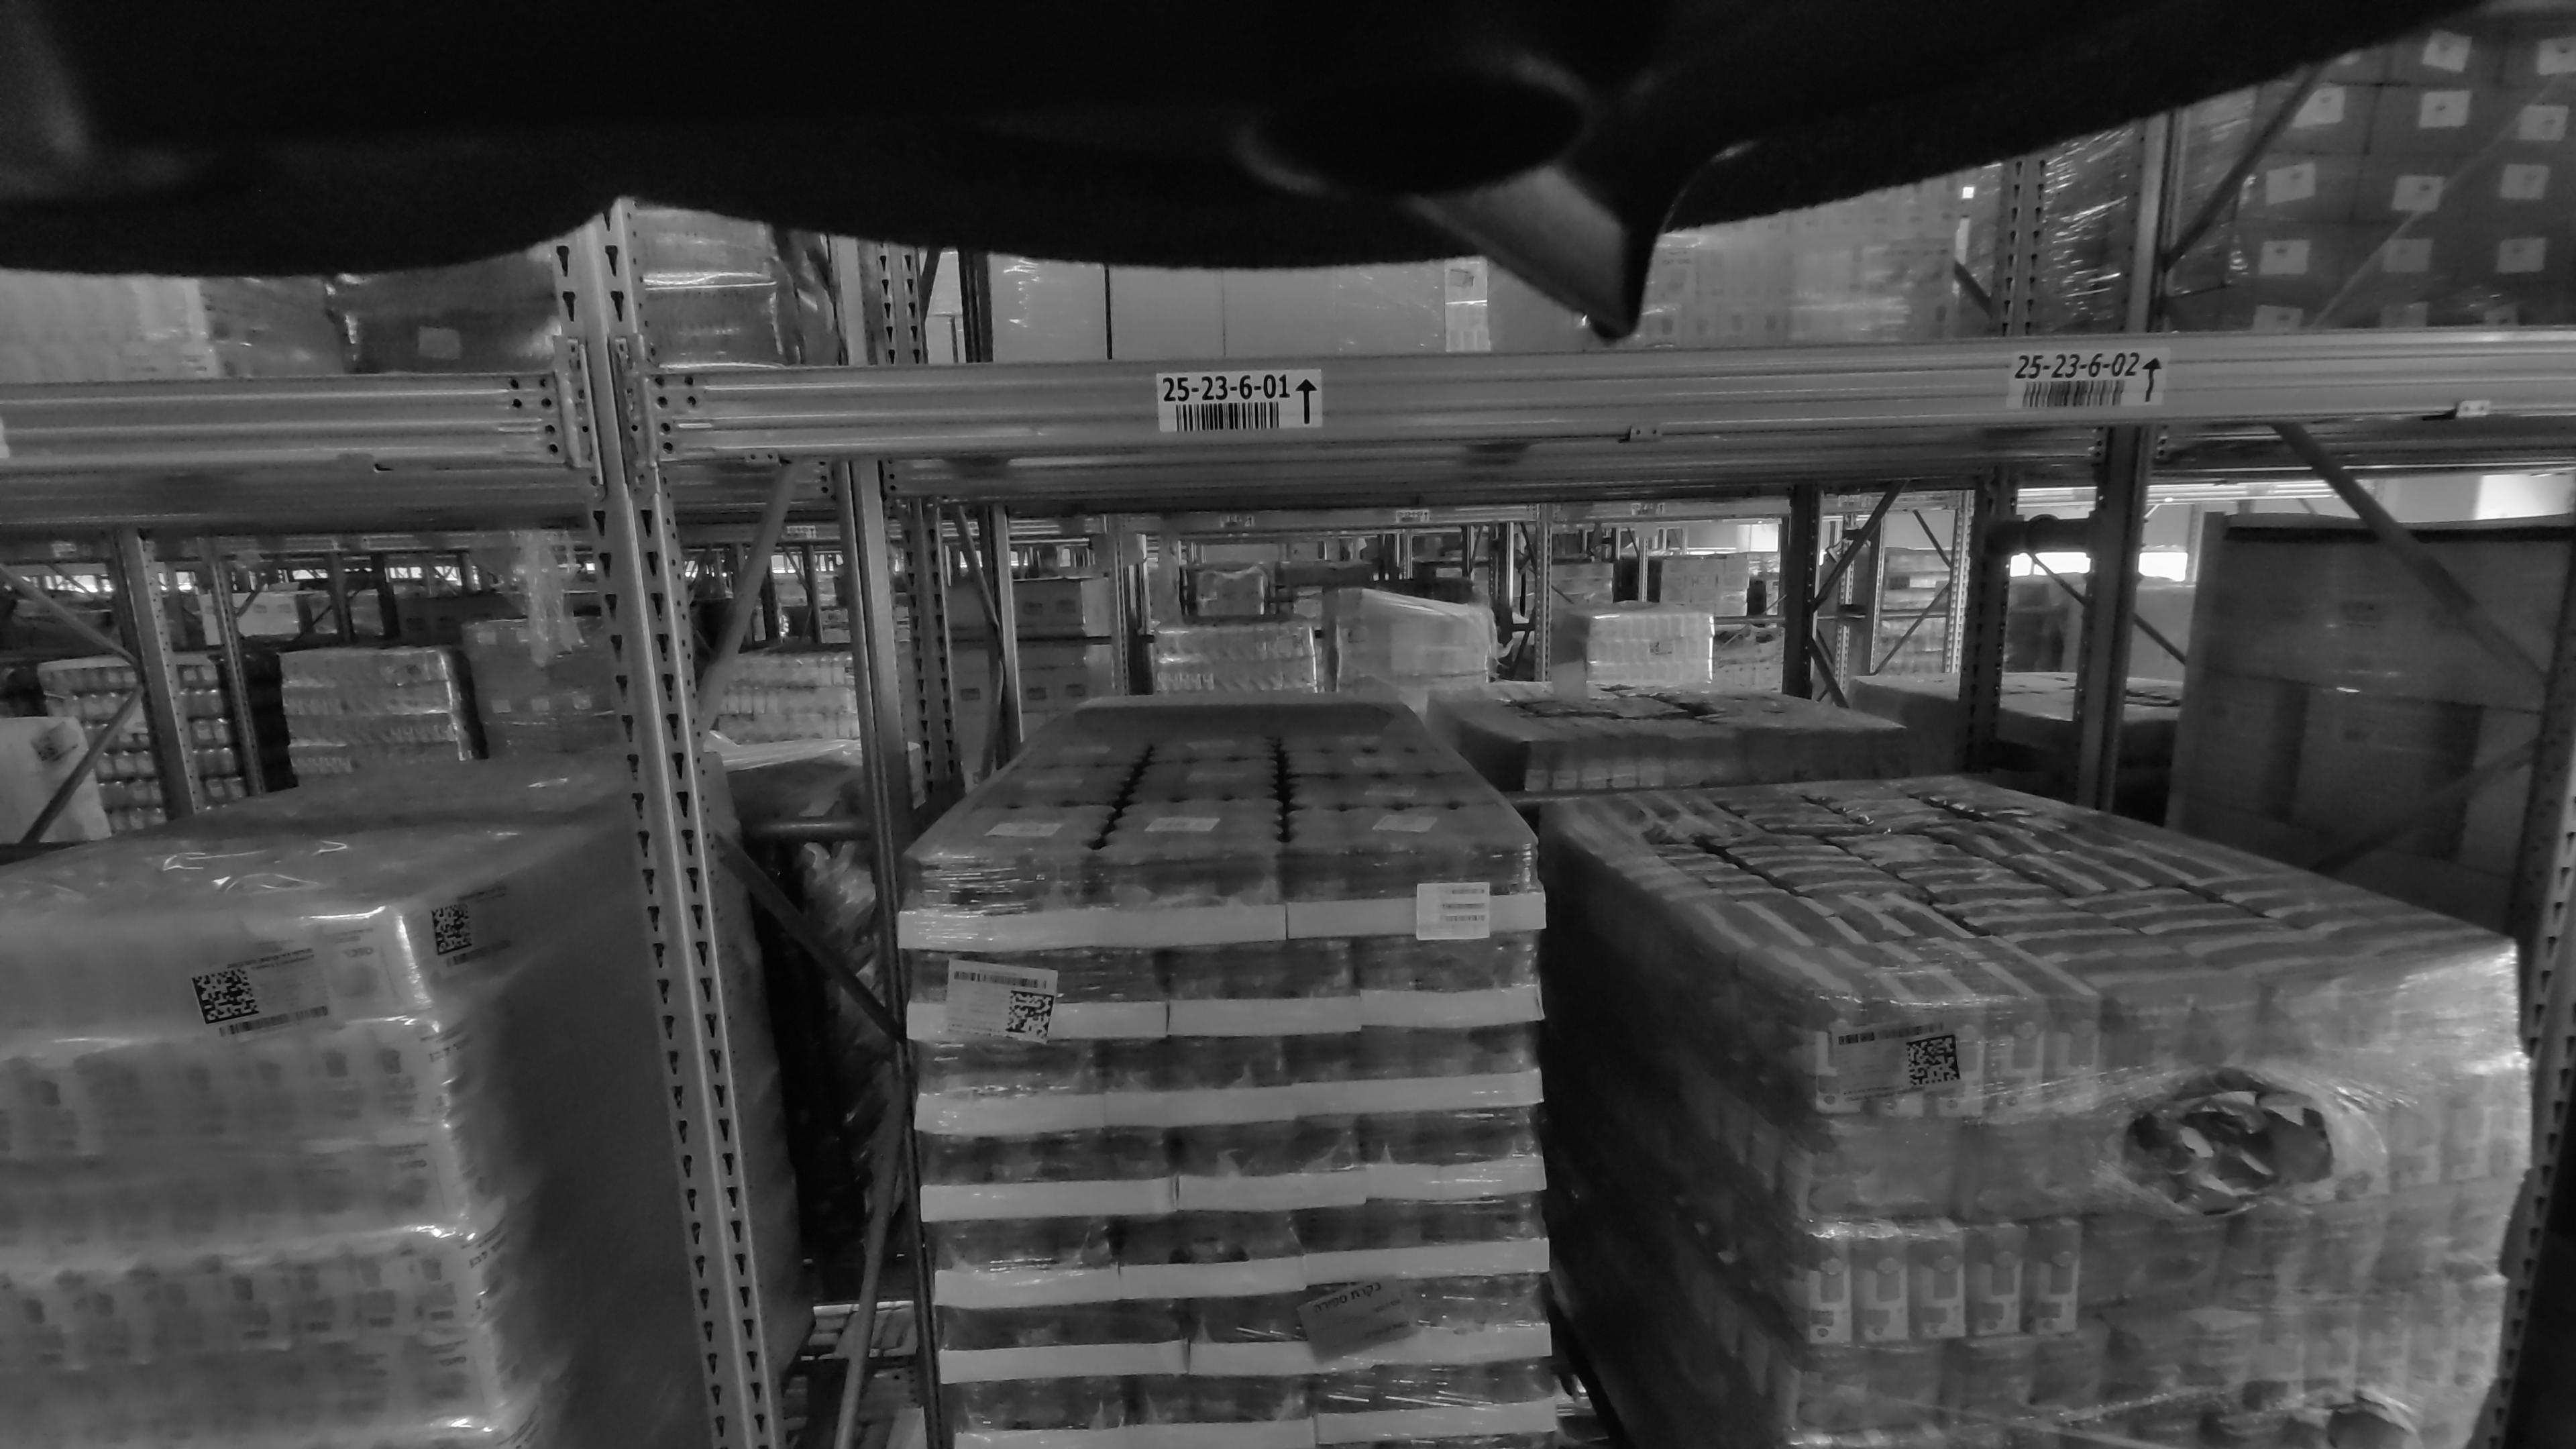empty-shelf: (1684, 184, 2484, 327), (773, 237, 1465, 363)
